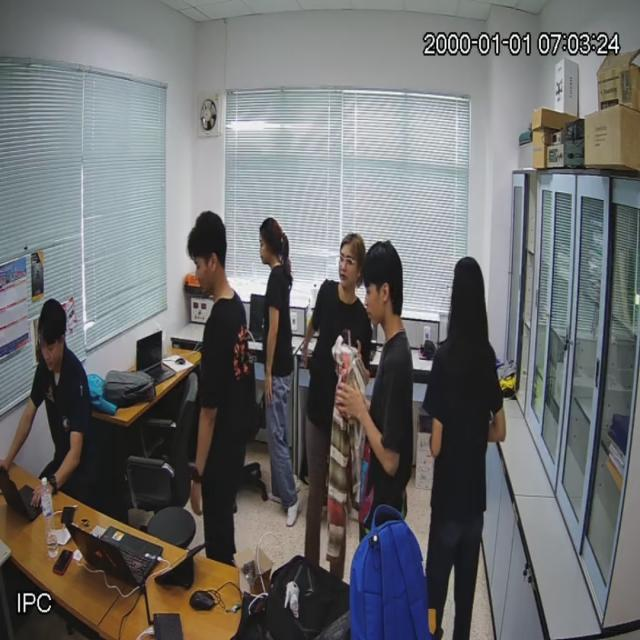normal: (426, 257, 504, 640), (188, 210, 254, 568), (306, 234, 368, 580), (344, 241, 415, 534), (12, 302, 98, 506), (259, 218, 298, 526)
